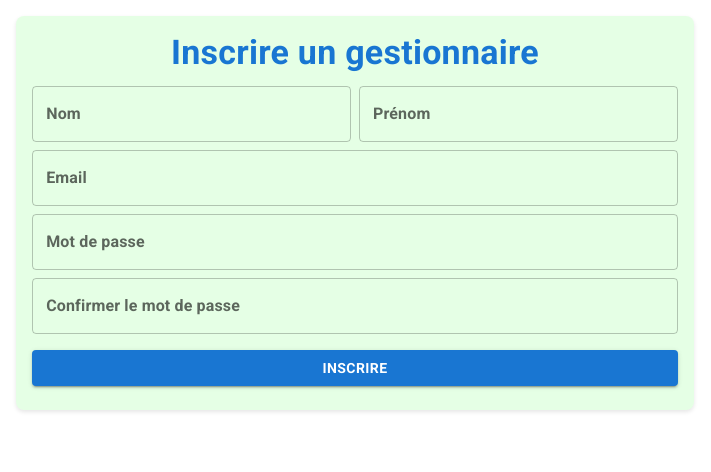
Test: ManagerRegisterPage › displays error for weak password
In the field labelled "Nom": coordinates (192, 114) top-left (32, 86), bottom-right (351, 142), type "Doe"
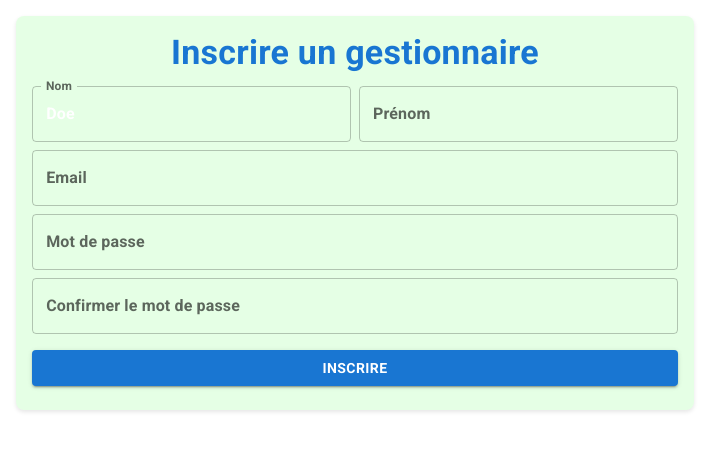
In the field labelled "Prénom": coordinates (518, 114) top-left (359, 86), bottom-right (678, 142), type "John"
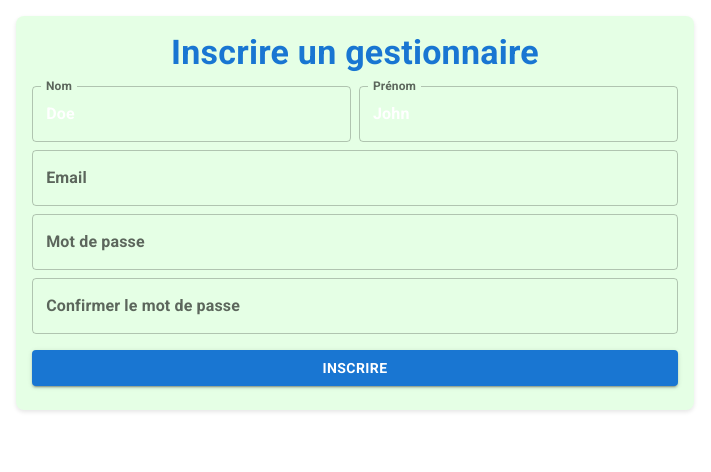
In the field labelled "Email": coordinates (355, 178) top-left (32, 150), bottom-right (678, 206), type "manager@example.com"
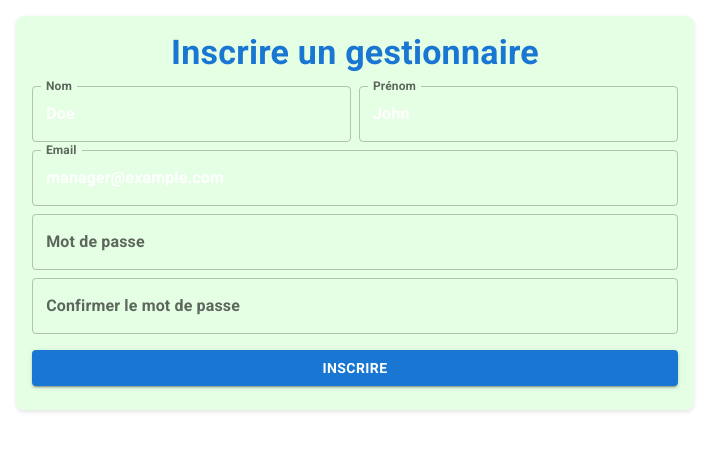
In the password field labelled "Mot de passe": coordinates (355, 242) top-left (32, 214), bottom-right (678, 270), type "weakpass"
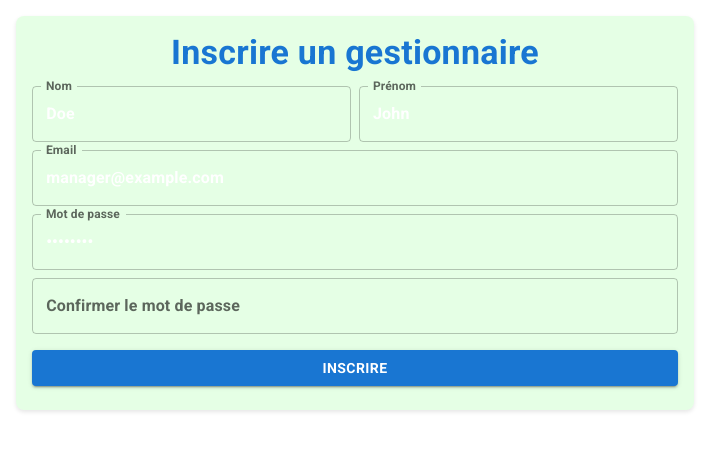
In the password field labelled "Confirmer le mot de passe": coordinates (355, 306) top-left (32, 278), bottom-right (678, 334), type "weakpass"
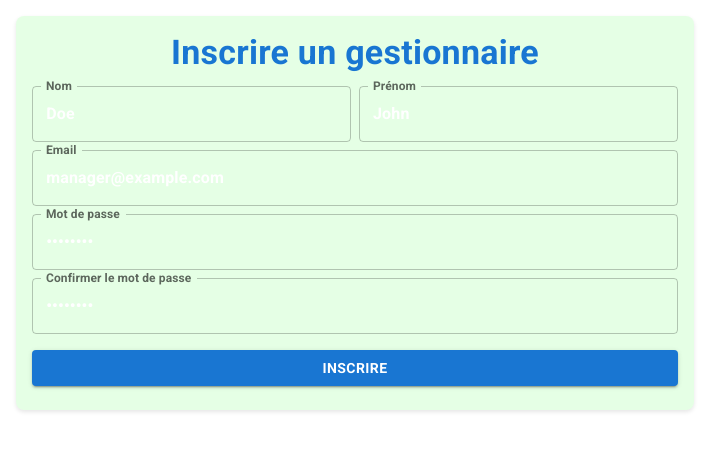
Note: Submit form
Click the button with test id "submit-button": coordinates (355, 368) top-left (32, 350), bottom-right (678, 386)
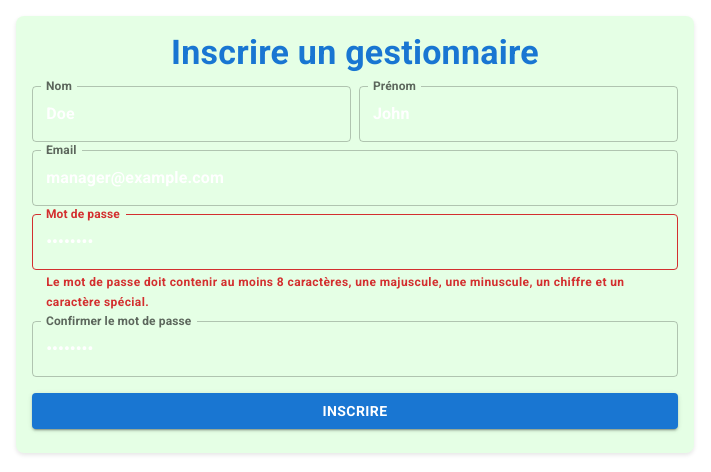
expect the text "Le mot de passe doit contenir au moins 8 caractères, une majuscule, une minuscule, un chiffre et un caractère spécial." is shown: met, box top-left (46, 275), bottom-right (624, 309)
